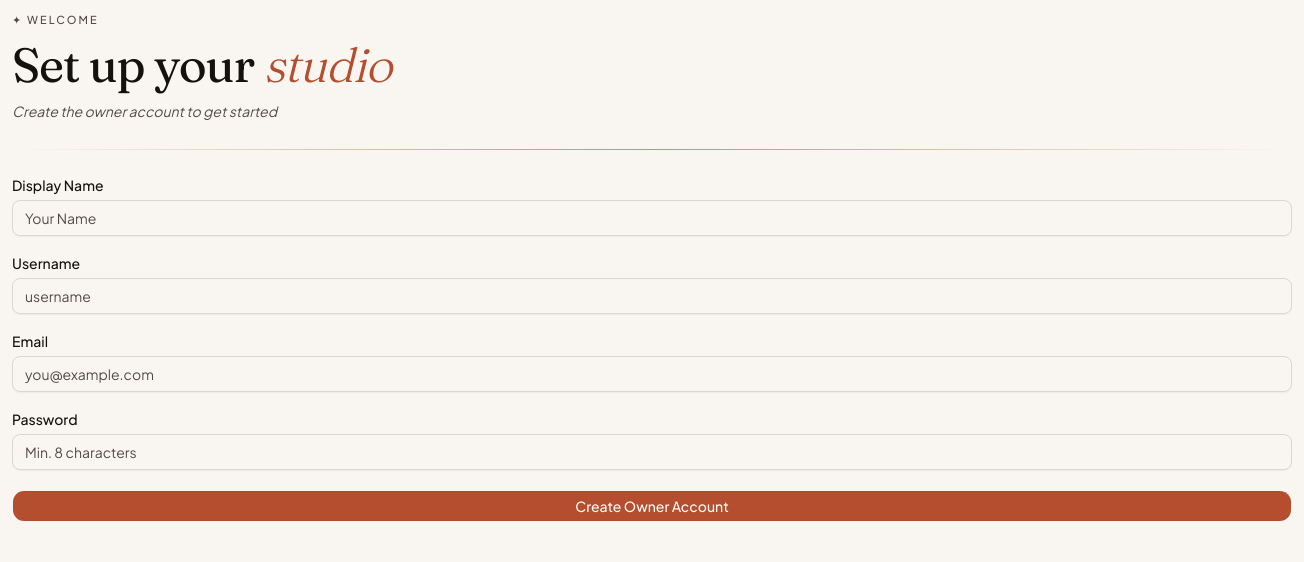
Test case: SetupForm › shows field error when name is too short
In the field labelled "Display Name": point(652, 218) [12,200,1292,236], type "A"
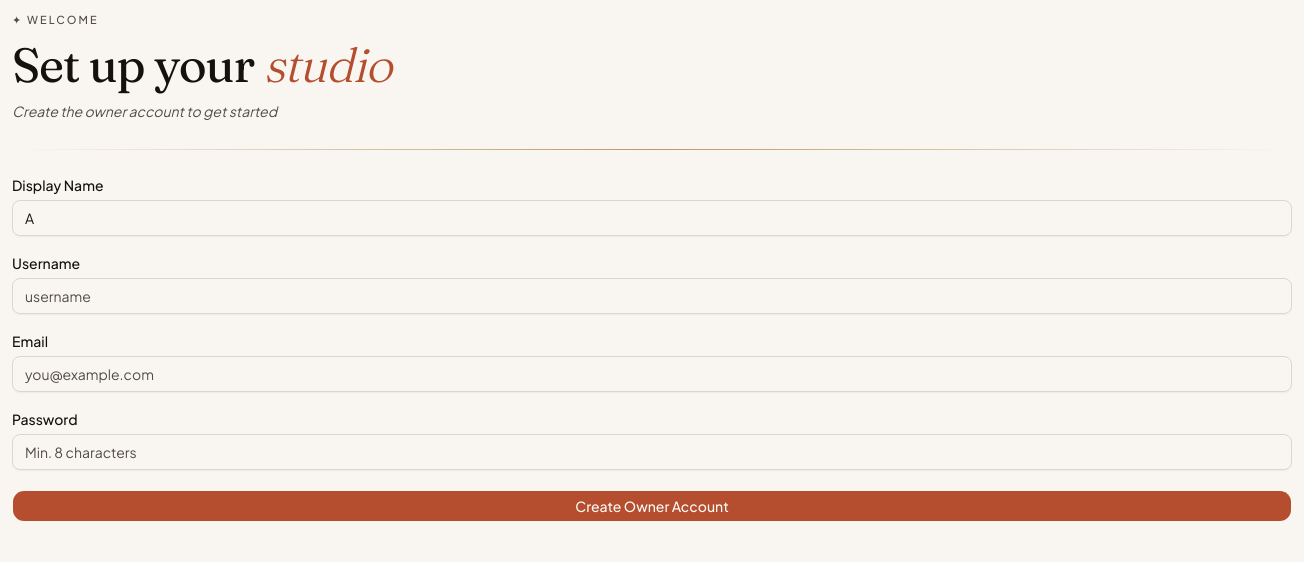
In the field labelled "Username": point(652, 296) [12,278,1292,314], type "owneruser"
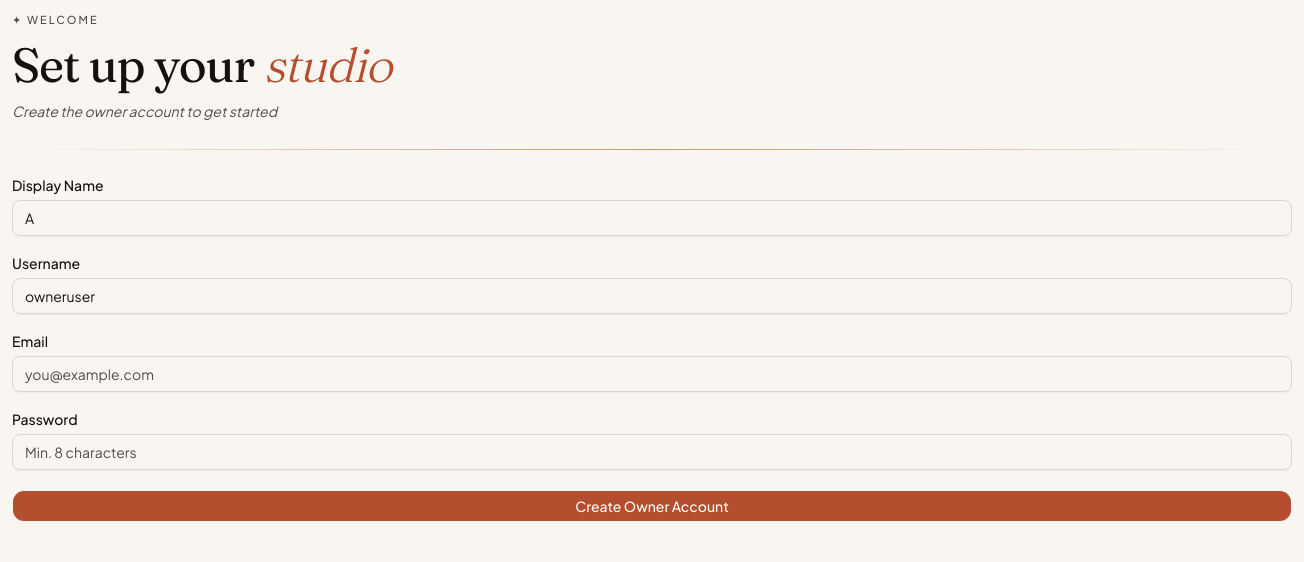
In the field labelled "Email": point(652, 374) [12,356,1292,392], type "owner@test.com"
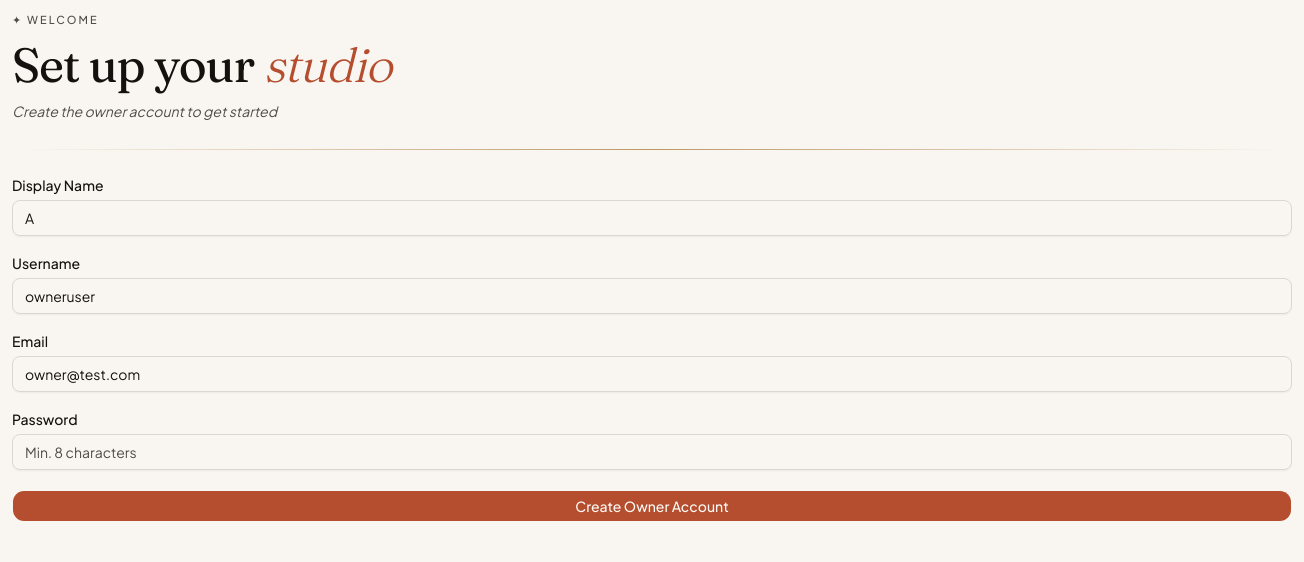
In the password field labelled "Password": point(652, 452) [12,434,1292,470], type "password123"
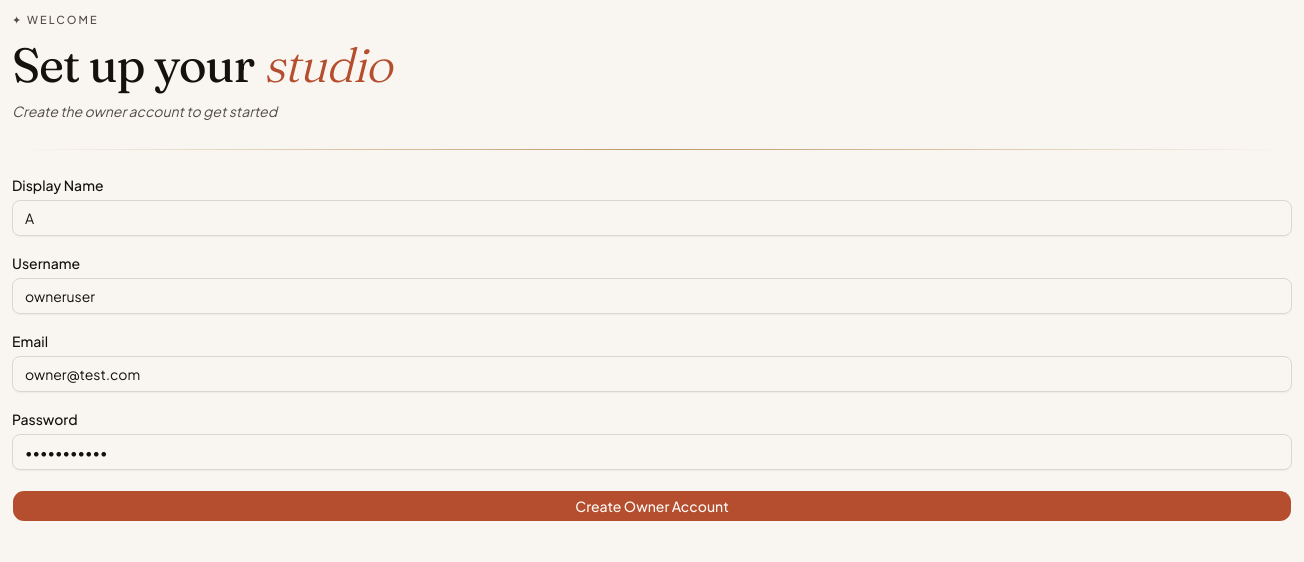
Click the button "Create Owner Account": point(652, 506) [12,490,1292,522]
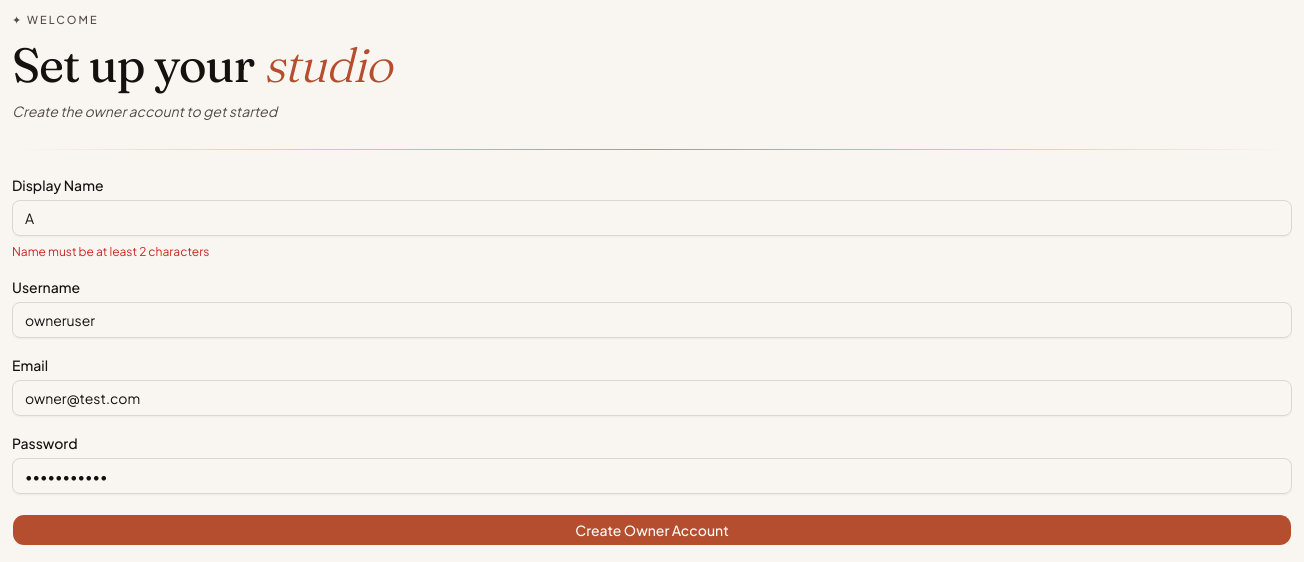
expect the text "Name must be at least 2 characters" is shown: met, box [12,244,209,258]
